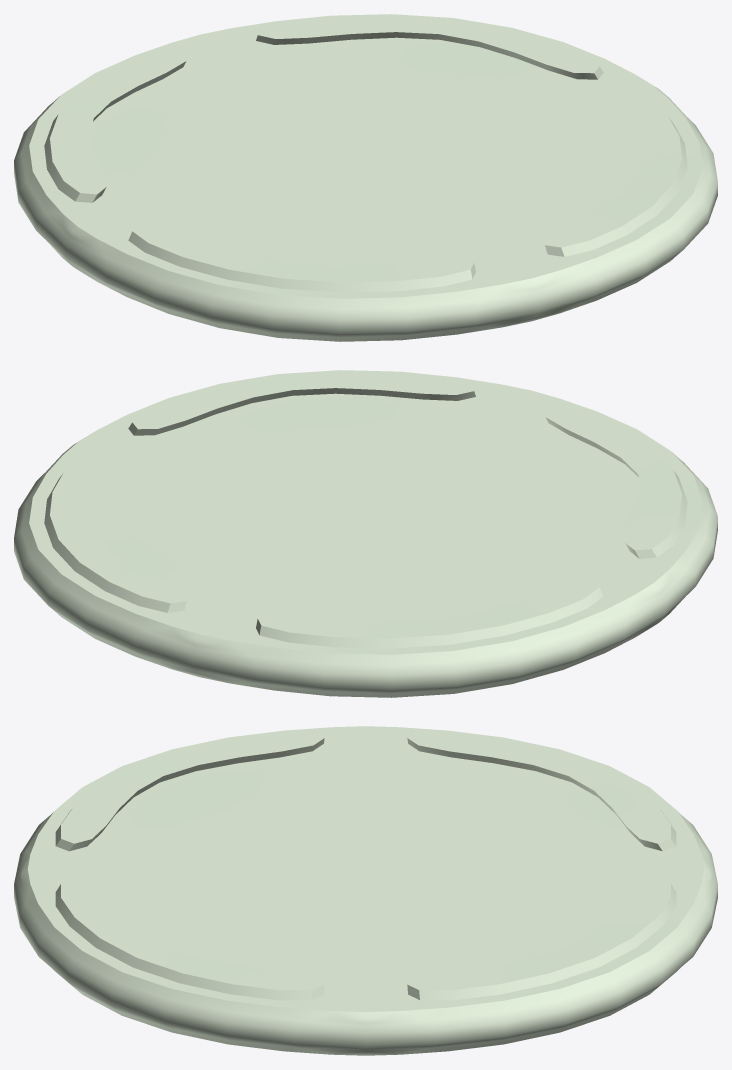
Rendered from cheese_platter.fbx.
3 views of the same model, one above another, from view 1: azimuth 30°, elevation 25°; view 2: azimuth 150°, elevation 25°; view 3: azimuth 270°, elevation 25° (orthographic).
Parts seen in each view (by area): view 1: cheese_platter; view 2: cheese_platter; view 3: cheese_platter.
Boxes of the visible parts, bbox=[...] form: cheese_platter: bbox=[14, 14, 717, 341]; cheese_platter: bbox=[14, 370, 717, 697]; cheese_platter: bbox=[14, 726, 717, 1055].
Bounding box in the file's own units: 75.48 × 6.1 × 75.48.
